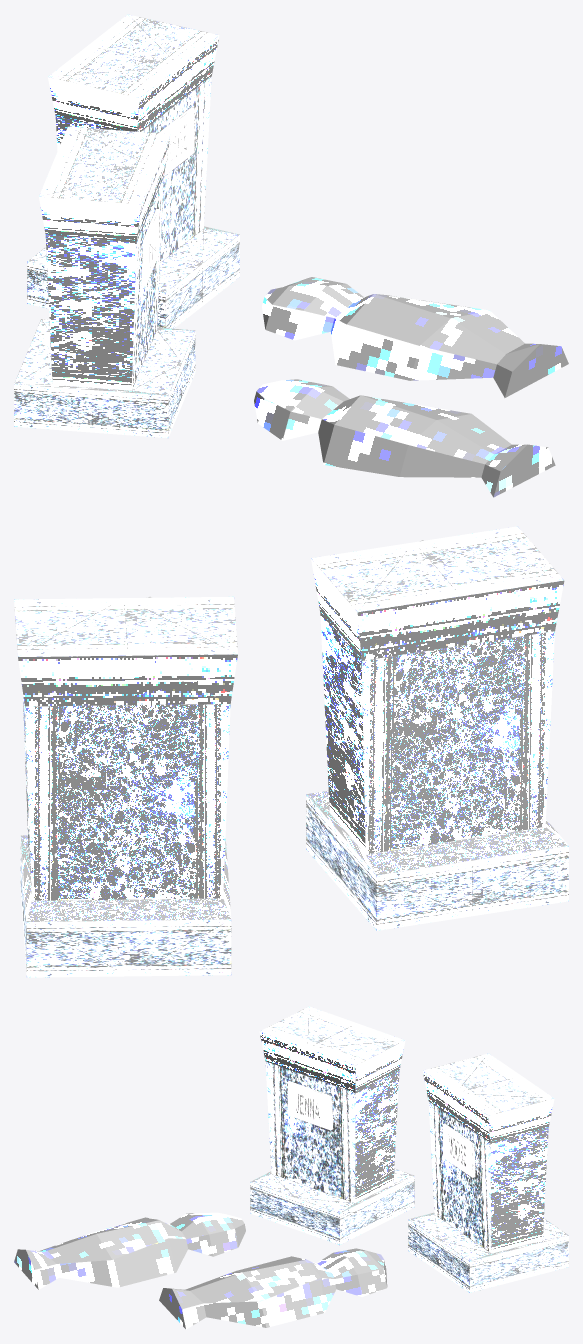
The model's file is grave.glb.
3 renders of one model, top to bottom at view 1: azimuth 30°, elevation 25°; view 2: azimuth 150°, elevation 25°; view 3: azimuth 270°, elevation 25°, orthographic. The views are drawn at different scales.
Parts seen in each view (by area): view 1: grave2, plots, grave1; view 2: grave2, grave1; view 3: grave2, grave1, plots.
Boxes of the visible parts, x1=… form: grave2: x1=14, y1=126, x2=195, y2=438; plots: x1=254, y1=277, x2=568, y2=497; grave1: x1=27, y1=14, x2=239, y2=328; grave2: x1=306, y1=526, x2=568, y2=930; grave1: x1=14, y1=596, x2=237, y2=977; grave2: x1=250, y1=1006, x2=414, y2=1245; grave1: x1=408, y1=1053, x2=568, y2=1292; plots: x1=14, y1=1212, x2=387, y2=1329.
Bounding box in the file's own units: 6.8 × 3.3 × 9.51.
